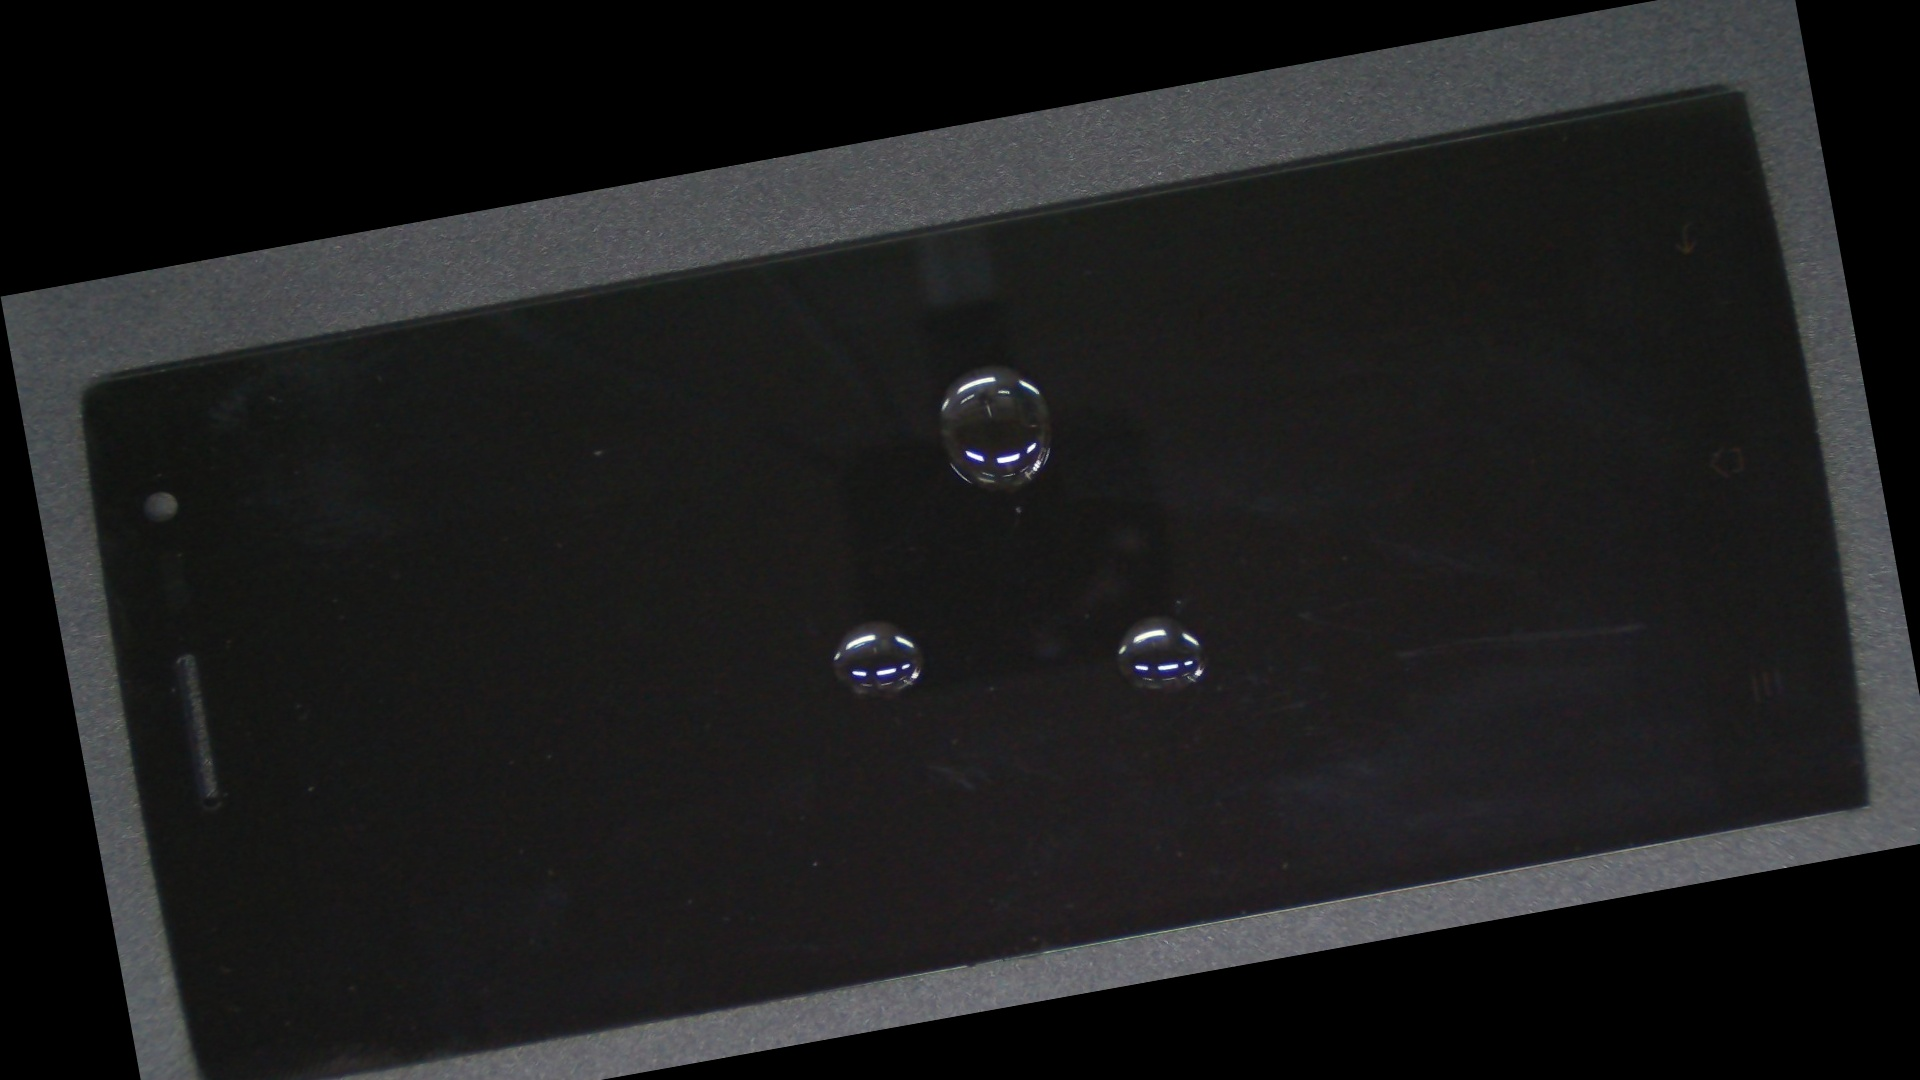oil: (571, 270, 1710, 969), (431, 320, 1292, 927), (489, 165, 1465, 572)
